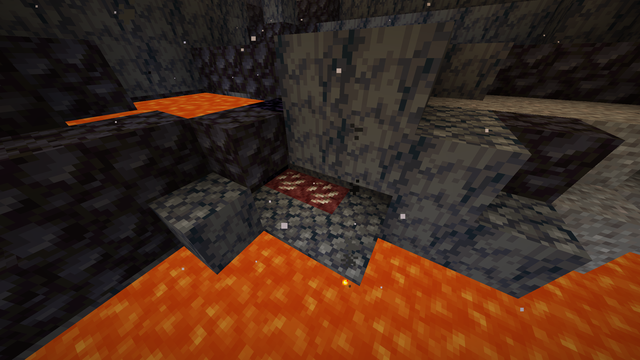quartz: (266, 168, 348, 212)
